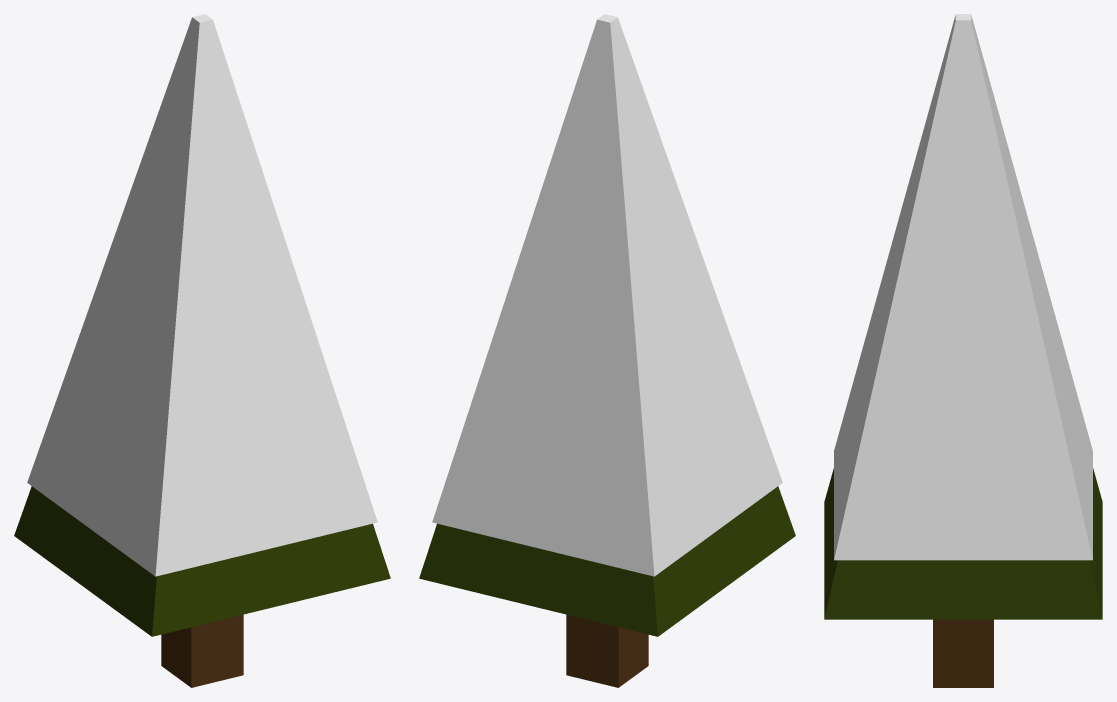
Rendered from WinterTreeSpruce_01.fbx.
The picture shows the model from 3 angles, left to right: view 1: azimuth 30°, elevation 25°; view 2: azimuth 150°, elevation 25°; view 3: azimuth 270°, elevation 25°; orthographic projection.
Visible parts, largest first — view 1: WinterTreeSpruce_01; view 2: WinterTreeSpruce_01; view 3: WinterTreeSpruce_01.
Boxes of the visible parts, left/top/right/bottom form: WinterTreeSpruce_01: left=14, top=14, right=390, bottom=687; WinterTreeSpruce_01: left=419, top=14, right=795, bottom=687; WinterTreeSpruce_01: left=824, top=14, right=1102, bottom=687.
Bounding box in the file's own units: 0.3333 × 0.8694 × 0.3333.
